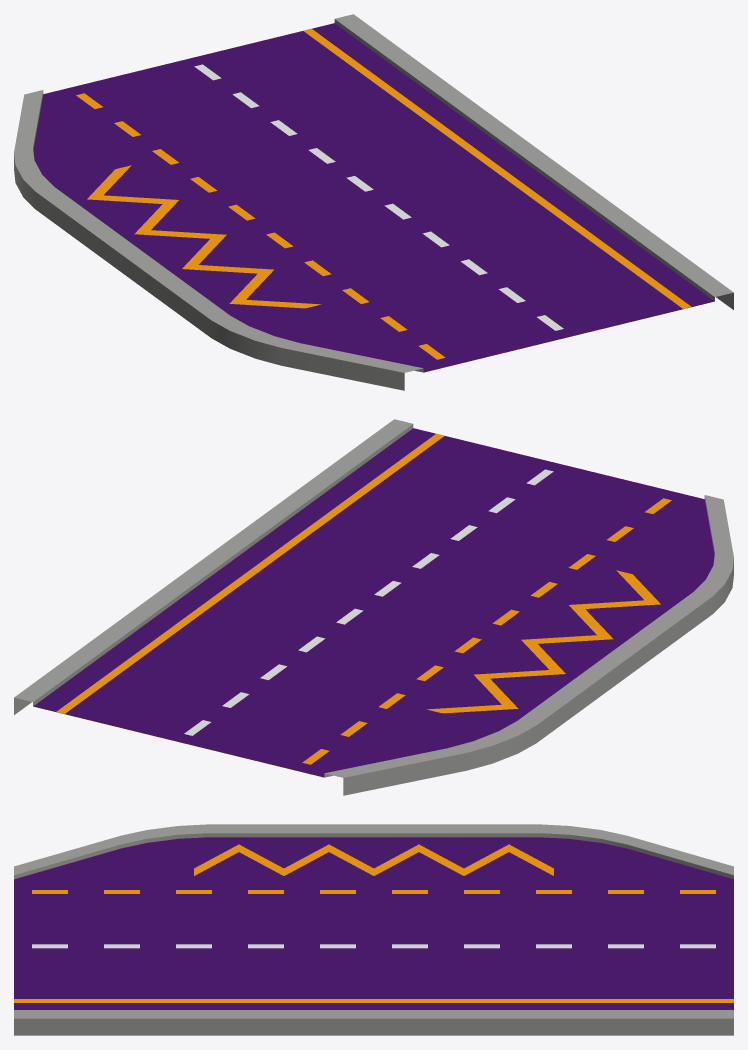
The model's file is Road_C_4.fbx.
3 renders of one model, top to bottom at view 1: azimuth 30°, elevation 25°; view 2: azimuth 150°, elevation 25°; view 3: azimuth 270°, elevation 25°, orthographic. The views are drawn at different scales.
Parts seen in each view (by area): view 1: Road_C_4; view 2: Road_C_4; view 3: Road_C_4.
Part boxes in pixels (x1,y1,x2,y2): Road_C_4: (14,14,733,390); Road_C_4: (14,419,733,795); Road_C_4: (14,824,733,1035).
Size of the model in its own units: 1021 by 41.48 by 1600.
